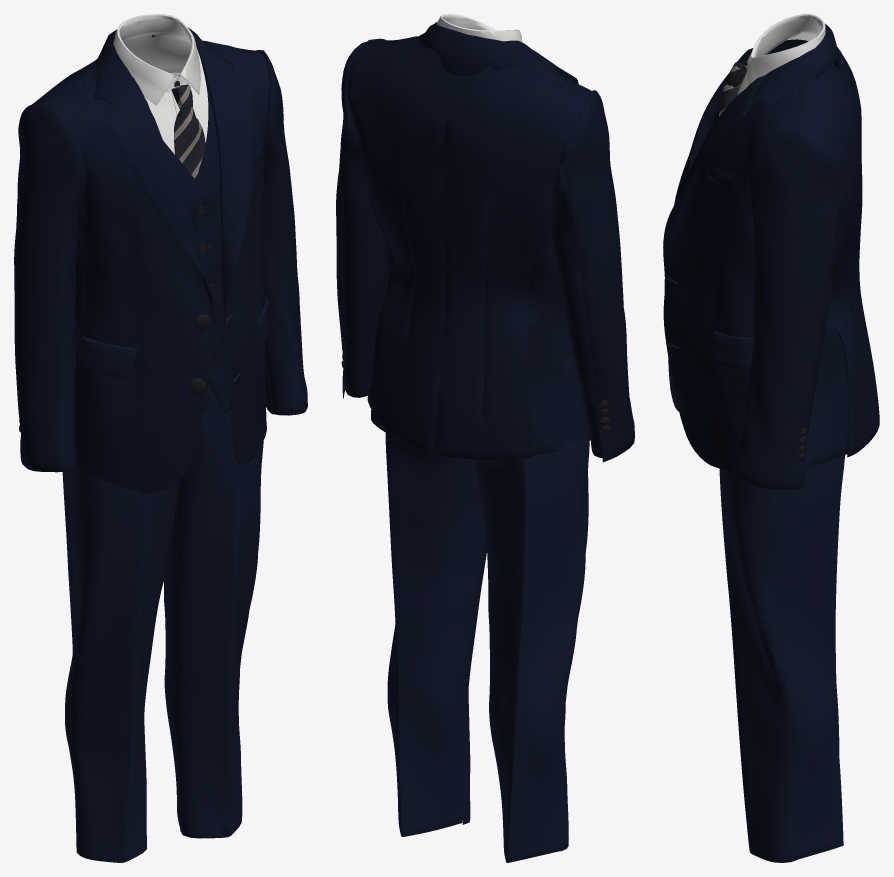
Rendered from MW_Tailleur_suit_repaired_v2.glb.
The picture shows the model from 3 angles, left to right: view 1: azimuth 30°, elevation 25°; view 2: azimuth 150°, elevation 25°; view 3: azimuth 270°, elevation 25°; orthographic projection. The views are drawn at different scales.
Parts seen in each view (by area): view 1: Jacket, Trousers, Shirt, Waistcoat, Tie, Trim; view 2: Jacket, Trousers, Shirt; view 3: Jacket, Trousers, Shirt, Tie.
Boxes of the visible parts, x1,y1,x2,y2 form: Jacket: (14,27,307,492); Trousers: (62,383,263,862); Shirt: (113,14,208,154); Waistcoat: (75,58,231,413); Tie: (172,84,205,179); Trim: (19,81,210,432); Jacket: (336,22,634,462); Trousers: (385,339,589,862); Shirt: (437,14,522,41); Jacket: (663,24,879,489); Trousers: (719,455,845,862); Shirt: (737,14,825,95); Tie: (719,62,746,116).
Size of the model in its own units: 0.5389 by 1.5 by 0.3678.
Materials: 7 (3 with a texture image).
